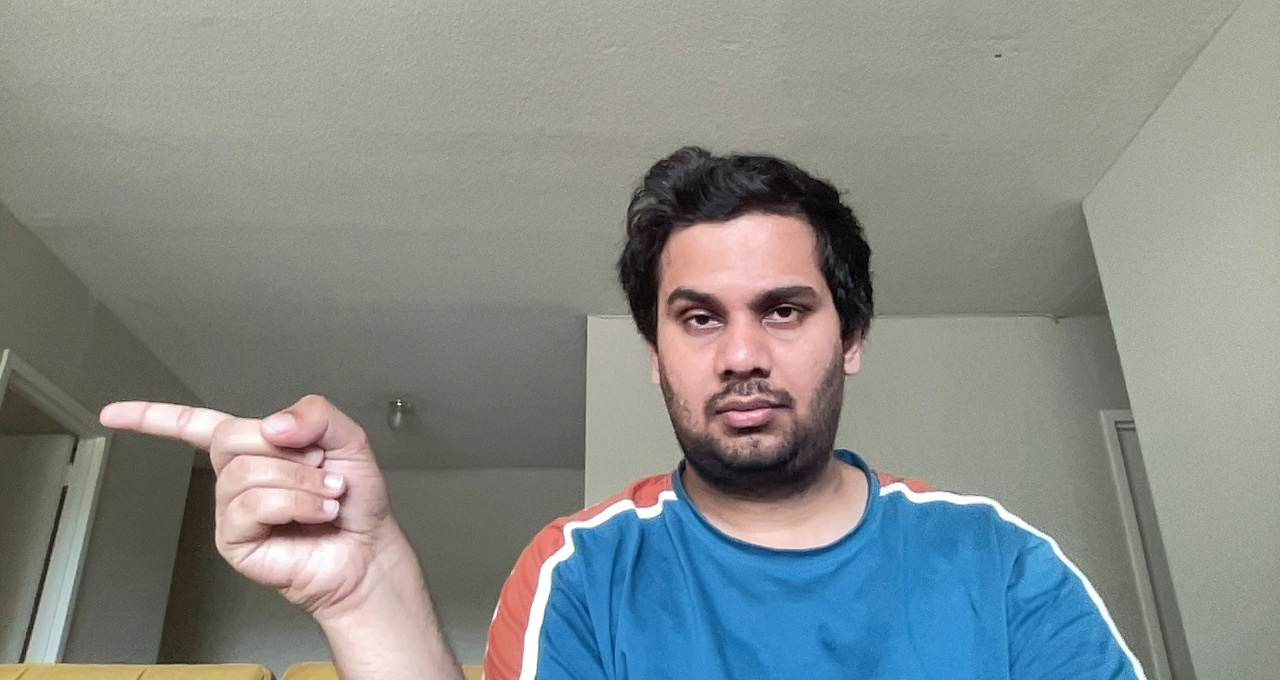fingerright: (86, 383, 413, 622)
